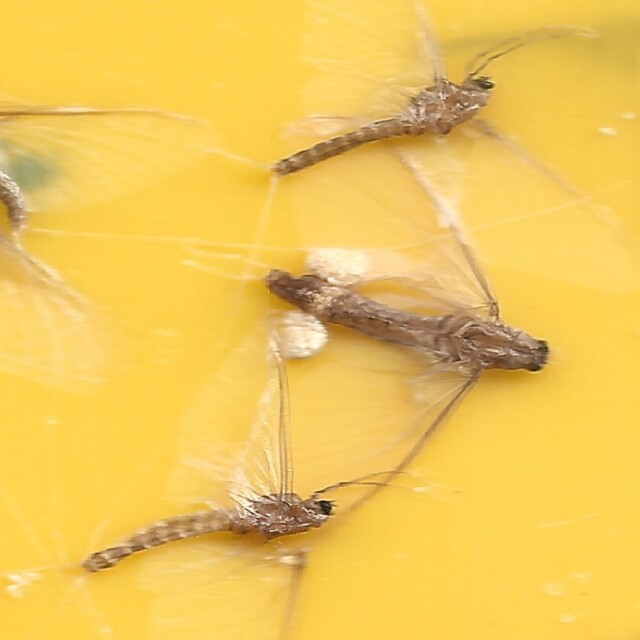Ephemeroptera: (258, 261, 555, 377), (267, 65, 497, 181), (85, 489, 339, 575)
